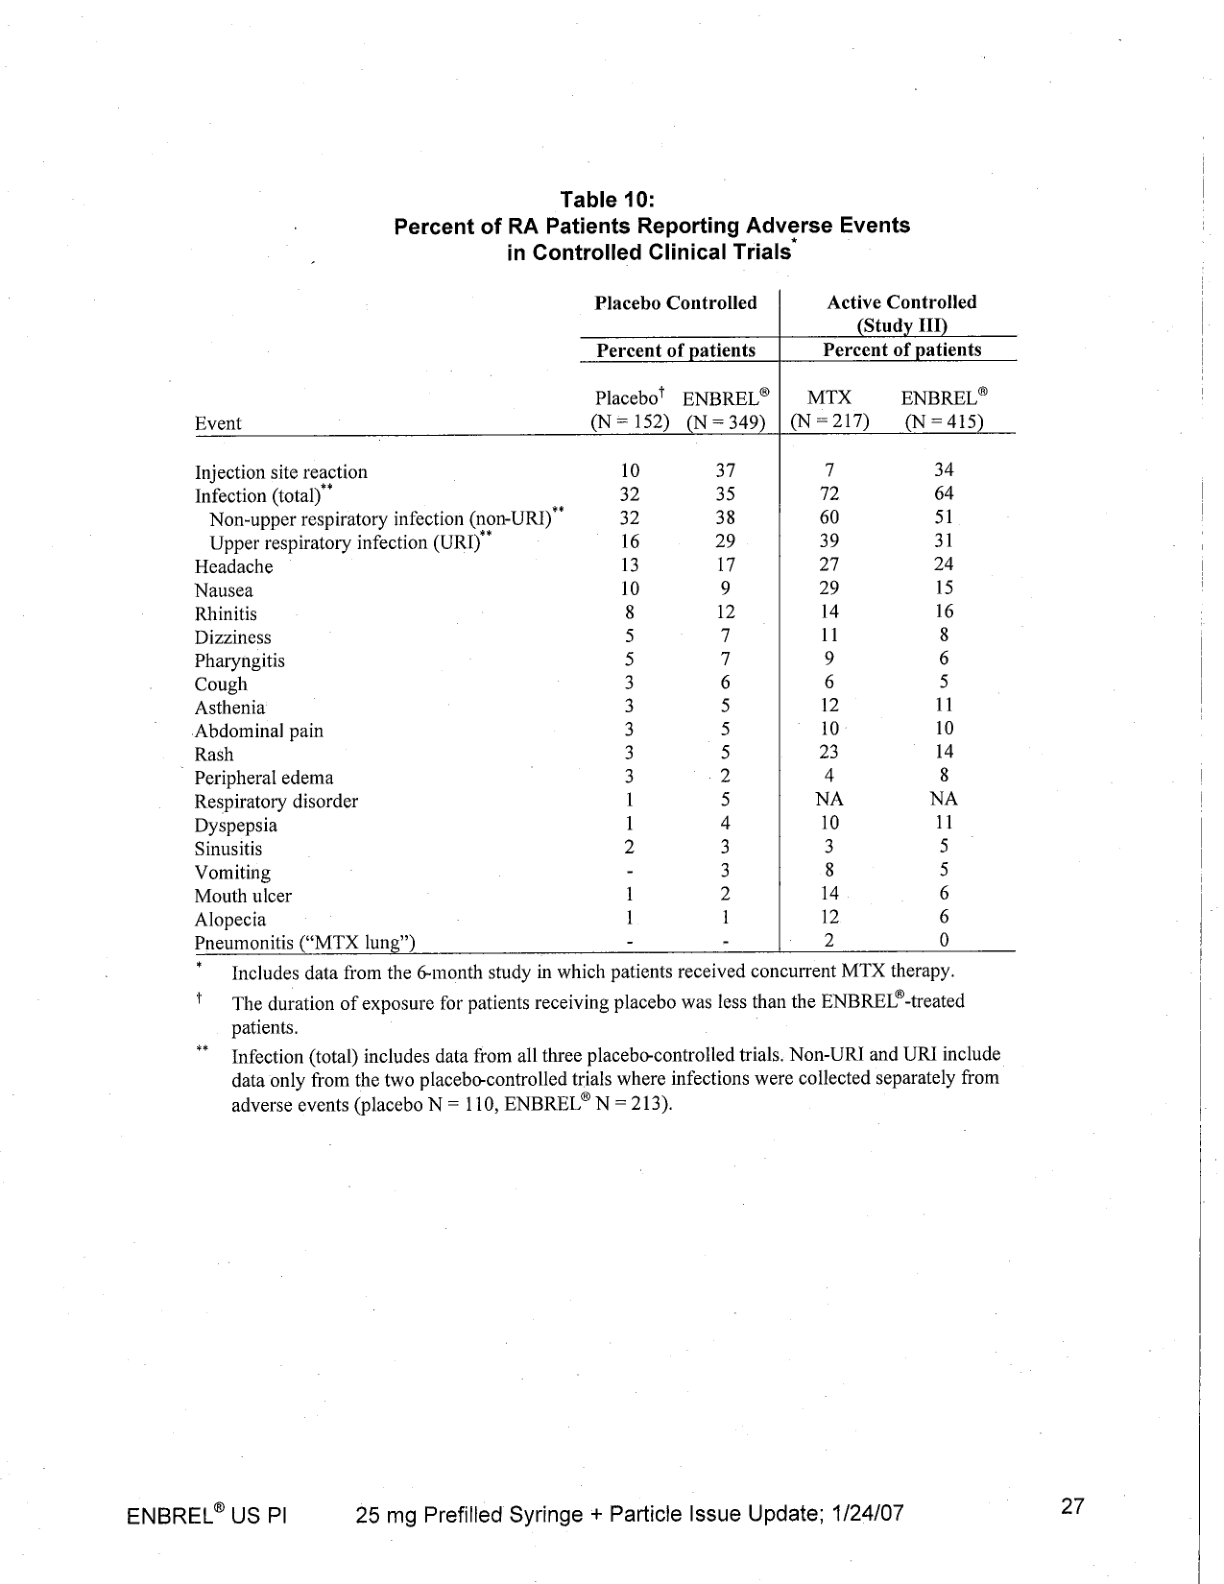partial_lined_merged_cells: (189, 285, 1017, 954)
